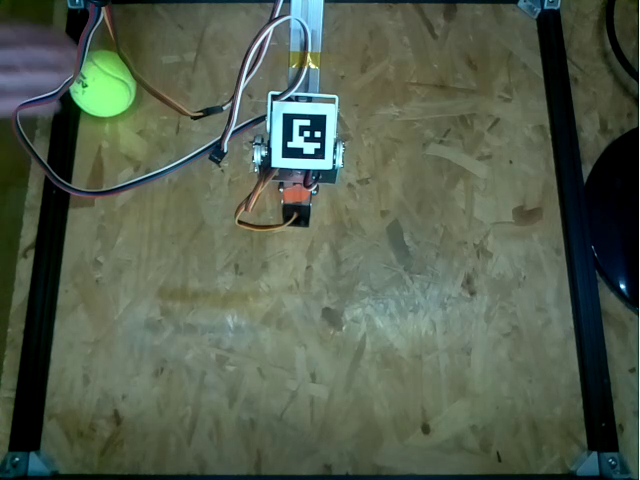tennis_ball: (69, 49, 138, 116)
